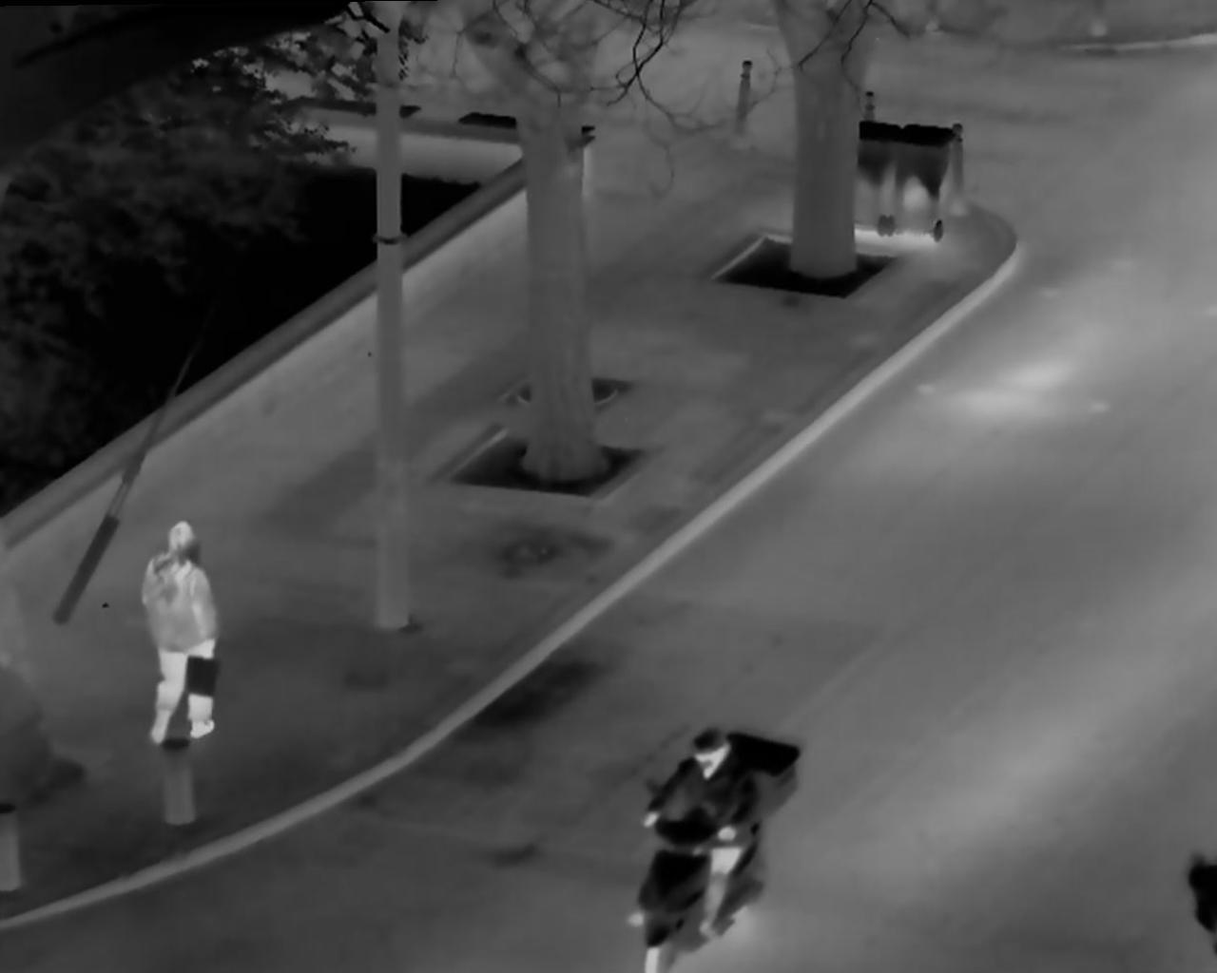person: (637, 704, 763, 955), (126, 506, 241, 754)
